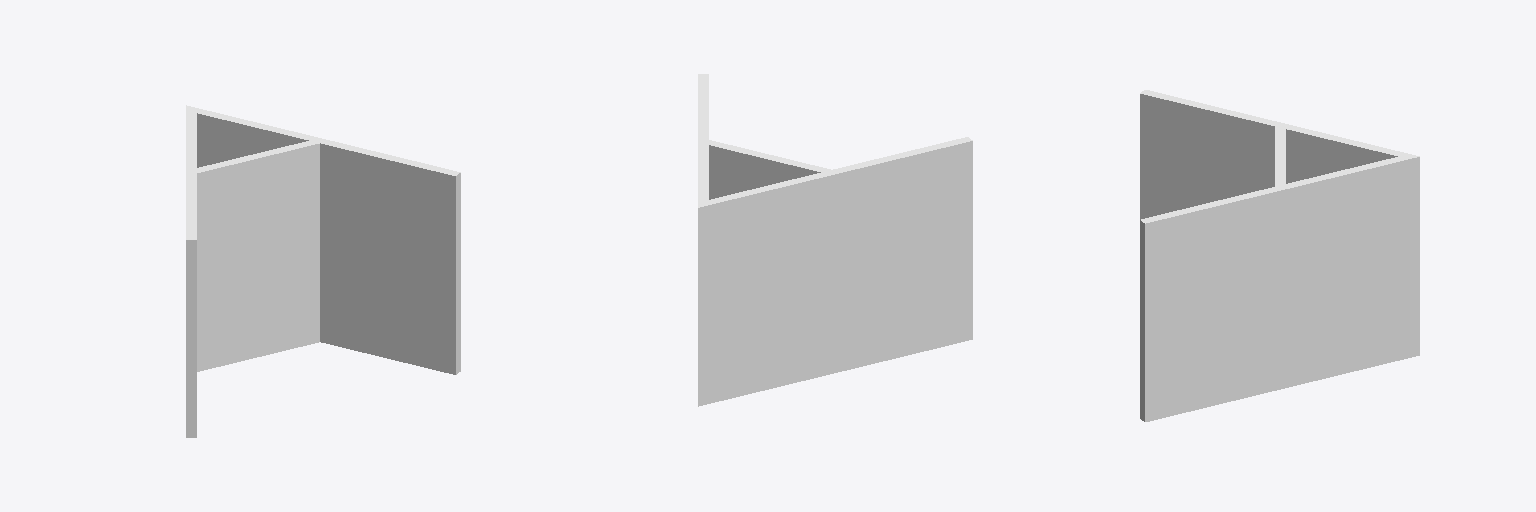
The picture shows the model from 3 angles: view 1: azimuth 30°, elevation 25°; view 2: azimuth 150°, elevation 25°; view 3: azimuth 270°, elevation 25°; orthographic projection.
Visible parts, largest first — view 1: wall_2_10, wall_3_16, wall_1_4, wall_1_3, wall_1_6, wall_2_11, wall_2_12, wall_1_5, wall_2_9; view 2: wall_1_3, wall_3_15, wall_2_12, wall_1_5, wall_1_6, wall_2_11; view 3: wall_2_9, wall_1_4, wall_1_5, wall_2_11, wall_2_12, wall_1_6.
Part boxes in pixels (left/top/right/bottom): wall_2_10: left=197, top=113, right=457, bottom=374; wall_3_16: left=197, top=144, right=319, bottom=371; wall_1_4: left=191, top=240, right=196, bottom=437; wall_1_3: left=186, top=240, right=190, bottom=437; wall_1_6: left=191, top=109, right=196, bottom=239; wall_2_11: left=186, top=105, right=460, bottom=173; wall_2_12: left=193, top=110, right=457, bottom=175; wall_1_5: left=186, top=106, right=190, bottom=239; wall_2_9: left=458, top=173, right=460, bottom=372; wall_1_3: left=698, top=141, right=972, bottom=406; wall_3_15: left=709, top=145, right=820, bottom=199; wall_2_12: left=703, top=74, right=708, bottom=203; wall_1_5: left=698, top=139, right=972, bottom=207; wall_1_6: left=704, top=137, right=969, bottom=203; wall_2_11: left=698, top=74, right=702, bottom=206; wall_2_9: left=1142, top=157, right=1419, bottom=421; wall_1_4: left=1140, top=94, right=1397, bottom=219; wall_1_5: left=1143, top=90, right=1419, bottom=156; wall_2_11: left=1143, top=157, right=1416, bottom=223; wall_2_12: left=1141, top=157, right=1405, bottom=221; wall_1_6: left=1140, top=91, right=1408, bottom=156.
Bounding box in the file's own units: 221 × 152 × 195.